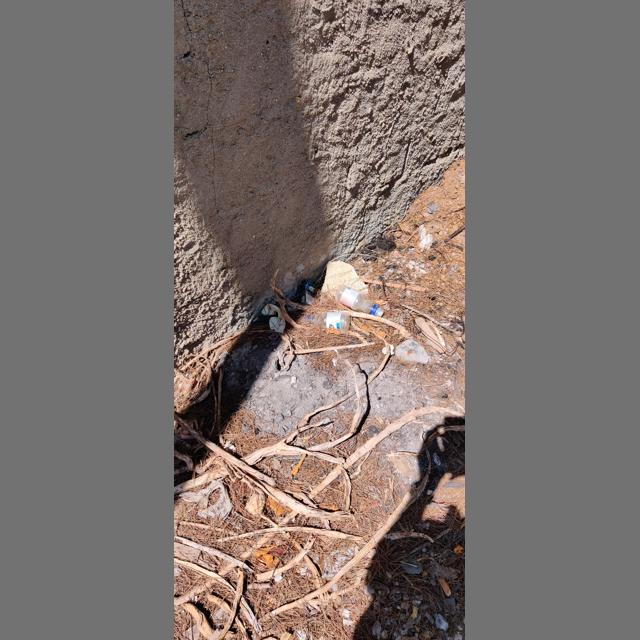litter: (179, 478, 233, 520), (335, 284, 385, 318), (322, 261, 369, 297), (303, 311, 350, 330), (262, 304, 286, 333), (300, 279, 316, 305), (382, 344, 395, 356), (400, 562, 420, 568), (278, 456, 301, 460), (376, 308, 385, 317), (333, 359, 339, 366)
